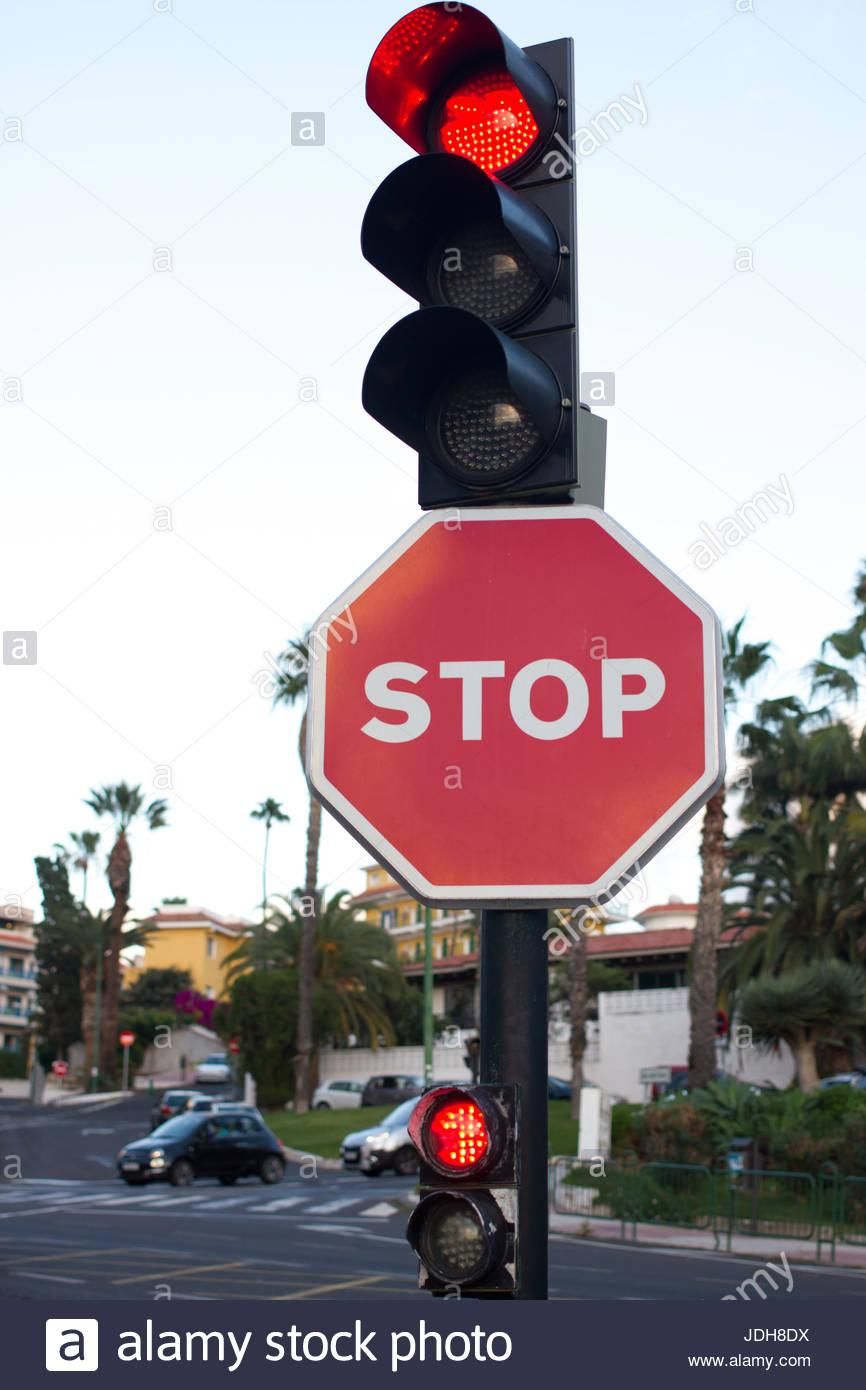red: (273, 13, 670, 507)
